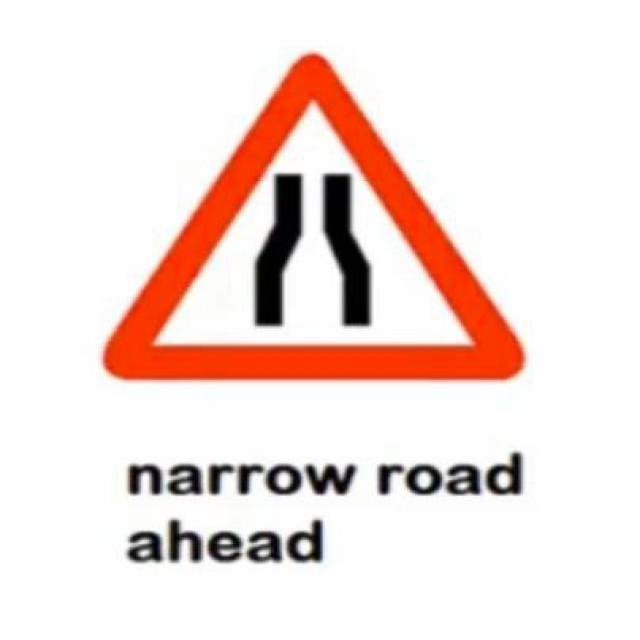narrowroad_ahead: (102, 51, 526, 376)
